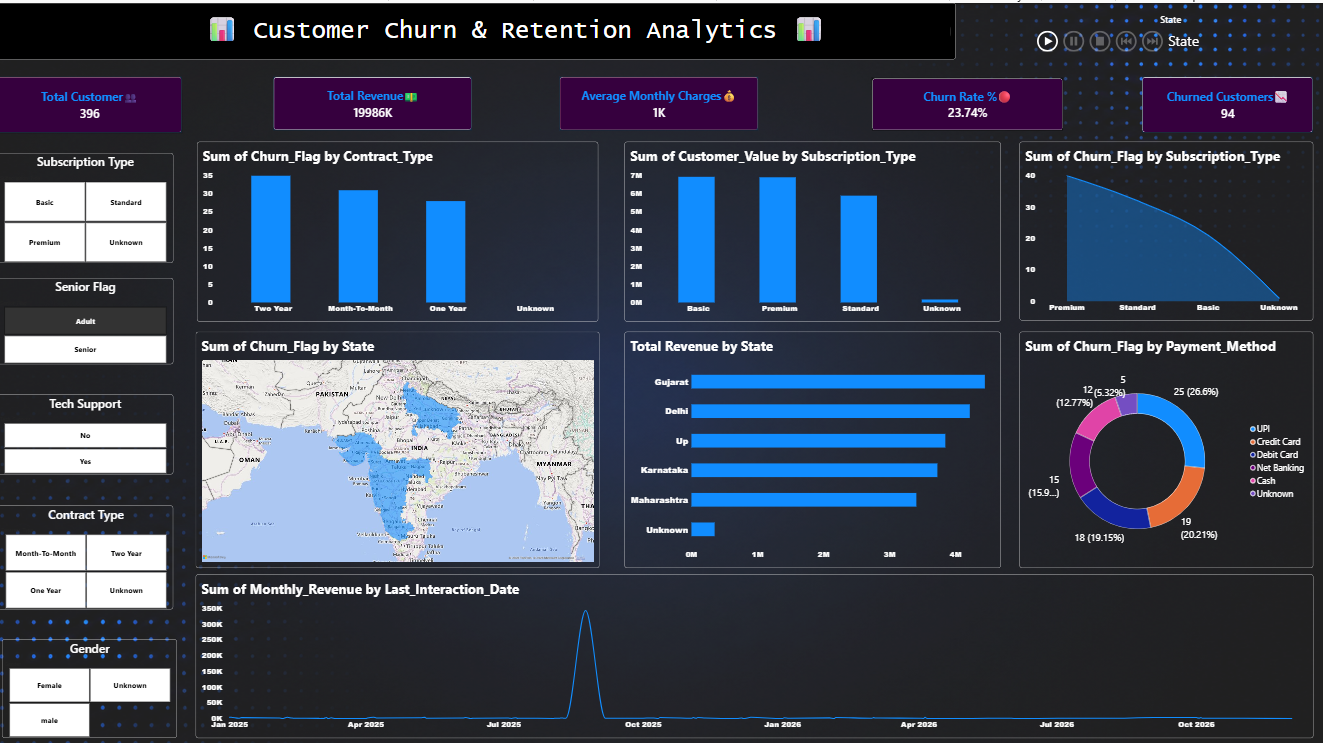

This screenshot's page, from the dashboard's own definition file:
{"tool":"powerbi","page":{"name":"Page 1","canvas":[1920,1080],"ordinal":0},"visuals":[{"type":"cardVisual","fields":{"Data":["customer_churn_cleaned.Average Monthly Charges"]},"box":[409.8,129.4,327.5,102],"z":0},{"type":"cardVisual","fields":{"Data":["customer_churn_cleaned.Churn Customer"]},"box":[1188.2,127.5,329.4,102],"z":1000},{"type":"cardVisual","fields":{"Data":["customer_churn_cleaned.Total Customers"]},"box":[23.5,129.4,311.8,102],"z":2000},{"type":"cardVisual","fields":{"Data":["customer_churn_cleaned.Churn Rate"]},"box":[798,129.4,325.5,100],"z":3000},{"type":"cardVisual","fields":{"Data":["customer_churn_cleaned.Total Revenue"]},"box":[1586.3,127.5,317.6,100],"z":4000},{"type":"columnChart","fields":{"Y":["Sum(customer_churn_cleaned.Churn_Flag)"],"Category":["customer_churn_cleaned.Contract_Type"]},"box":[468.6,290.2,437.3,320.4],"z":6000},{"type":"filledMap","fields":{"Category":["customer_churn_cleaned.State"],"Y":["Sum(customer_churn_cleaned.Churn_Flag)"]},"box":[452.9,692.2,437.3,388.2],"z":8000},{"type":"clusteredBarChart","fields":{"Category":["customer_churn_cleaned.State"],"Y":["customer_churn_cleaned.Total Revenue"]},"box":[962.7,698,451,382.4],"z":10000},{"type":"donutChart","fields":{"Y":["Sum(customer_churn_cleaned.Churn_Flag)"],"Category":["customer_churn_cleaned.Payment_Method"]},"box":[1441.2,698,429.4,382.4],"z":12000},{"type":"lineStackedColumnComboChart","fields":{"Y":["Sum(customer_churn_cleaned.Customer_Value)"],"Category":["customer_churn_cleaned.Subscription_Type"]},"box":[954.9,290.2,425.5,319.6],"z":13000},{"type":"slicer","title":"Subscription Type","fields":{"Values":["customer_churn_cleaned.Subscription_Type"]},"box":[0,290.2,429.4,119.6],"z":14000},{"type":"PBI_CV_16948668_E17D_454B_8664_2F2C470EA8C1","fields":{"category":["customer_churn_cleaned.State","customer_churn_cleaned.Monthly_Revenue"]},"box":[1619.6,0,300,88.2],"z":15000},{"type":"ScrollingTextVisual1448795304508","fields":{"Category":["customer_churn_cleaned.State"]},"box":[0,0,1586.3,113.7],"z":16000},{"type":"slicer","title":"Senior Flag","fields":{"Values":["customer_churn_cleaned.Senior_Flag"]},"box":[0,435.3,251,103.9],"z":16001},{"type":"slicer","title":"Tech Support","fields":{"Values":["customer_churn_cleaned.Tech_Support"]},"box":[0,594.1,251,121.6],"z":16002},{"type":"slicer","title":"Contract Type","fields":{"Values":["customer_churn_cleaned.Contract_Type"]},"box":[2,764.7,429.4,139.2],"z":16003},{"type":"slicer","title":"Gender","fields":{"Values":["customer_churn_cleaned.Gender"]},"box":[2,947.1,409.8,133.3],"z":16004},{"type":"areaChart","fields":{"Category":["customer_churn_cleaned.Subscription_Type"],"Y":["Sum(customer_churn_cleaned.Churn_Flag)"]},"box":[1466.7,290.2,437.3,317.6],"z":16005}]}

Visuals, with their boxes in screenshot pixels (x1, y1, x2, y2), scaled from the page's 1920x1080 canvas onto the 1323x743 screenshot:
cardVisual - customer_churn_cleaned.Average Monthly Charges: [282,89,508,159]
cardVisual - customer_churn_cleaned.Churn Customer: [819,88,1046,158]
cardVisual - customer_churn_cleaned.Total Customers: [16,89,231,159]
cardVisual - customer_churn_cleaned.Churn Rate: [550,89,774,158]
cardVisual - customer_churn_cleaned.Total Revenue: [1093,88,1312,157]
columnChart - Sum(customer_churn_cleaned.Churn_Flag) x customer_churn_cleaned.Contract_Type: [323,200,624,420]
filledMap - customer_churn_cleaned.State x Sum(customer_churn_cleaned.Churn_Flag): [312,476,613,742]
clusteredBarChart - customer_churn_cleaned.State x customer_churn_cleaned.Total Revenue: [663,480,974,742]
donutChart - Sum(customer_churn_cleaned.Churn_Flag) x customer_churn_cleaned.Payment_Method: [993,480,1289,742]
lineStackedColumnComboChart - Sum(customer_churn_cleaned.Customer_Value) x customer_churn_cleaned.Subscription_Type: [658,200,951,420]
"Subscription Type" slicer: [0,200,296,282]
PBI_CV_16948668_E17D_454B_8664_2F2C470EA8C1 - customer_churn_cleaned.State x customer_churn_cleaned.Monthly_Revenue: [1116,0,1322,61]
ScrollingTextVisual1448795304508 - customer_churn_cleaned.State: [0,0,1093,78]
"Senior Flag" slicer: [0,299,173,371]
"Tech Support" slicer: [0,409,173,492]
"Contract Type" slicer: [1,526,297,622]
"Gender" slicer: [1,652,284,742]
areaChart - customer_churn_cleaned.Subscription_Type x Sum(customer_churn_cleaned.Churn_Flag): [1011,200,1312,418]
